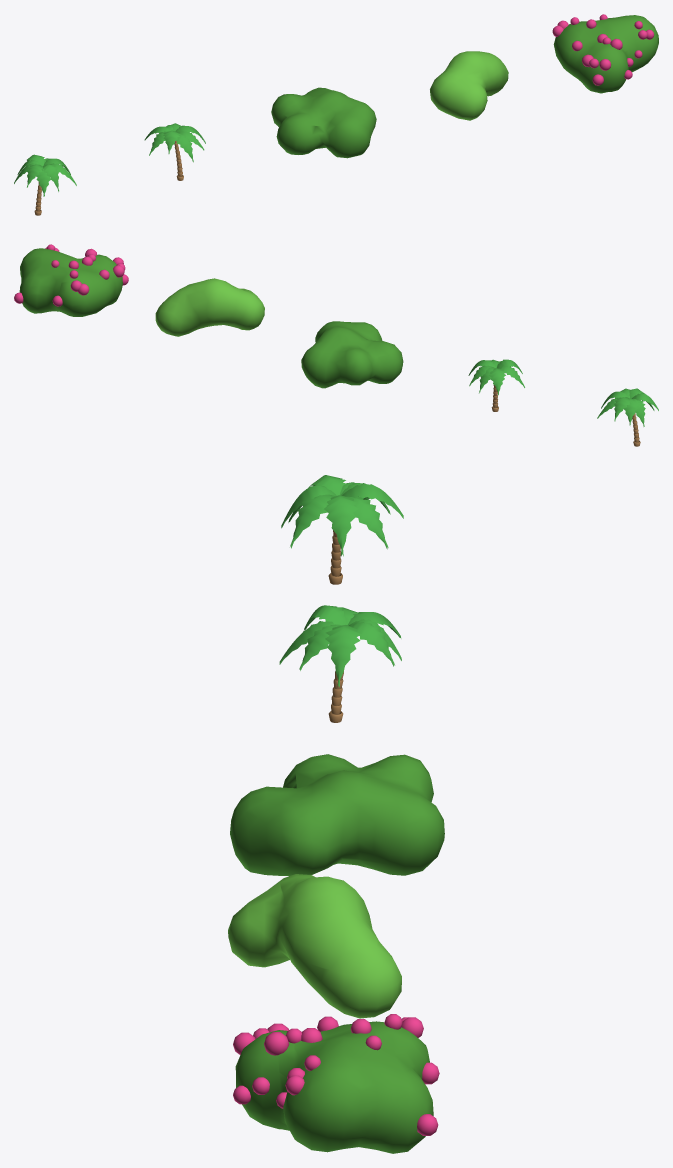
File: valora-trees.glb
3 views of the same model, one above another, from view 1: azimuth 30°, elevation 25°; view 2: azimuth 150°, elevation 25°; view 3: azimuth 270°, elevation 25° (orthographic). The views are drawn at different scales.
Parts seen in each view (by area): view 1: shrub-c, shrub-a, shrub-b, palm-a, palm-b; view 2: shrub-c, shrub-a, shrub-b, palm-a, palm-b; view 3: shrub-c, shrub-a, shrub-b, palm-a, palm-b.
Boxes of the visible parts, x1,y1,x2,y2 form: shrub-c: [552, 14, 658, 93]; shrub-a: [271, 87, 376, 158]; shrub-b: [430, 51, 508, 120]; palm-a: [14, 154, 76, 215]; palm-b: [144, 123, 205, 180]; shrub-c: [14, 244, 128, 316]; shrub-a: [301, 321, 403, 388]; shrub-b: [155, 278, 264, 336]; palm-a: [597, 388, 658, 446]; palm-b: [468, 359, 524, 411]; shrub-c: [233, 1014, 439, 1153]; shrub-a: [230, 754, 444, 876]; shrub-b: [228, 874, 401, 1018]; palm-a: [281, 475, 403, 584]; palm-b: [279, 605, 401, 722].
Bounding box in the file's own units: 13.35 × 1.19 × 1.99.
